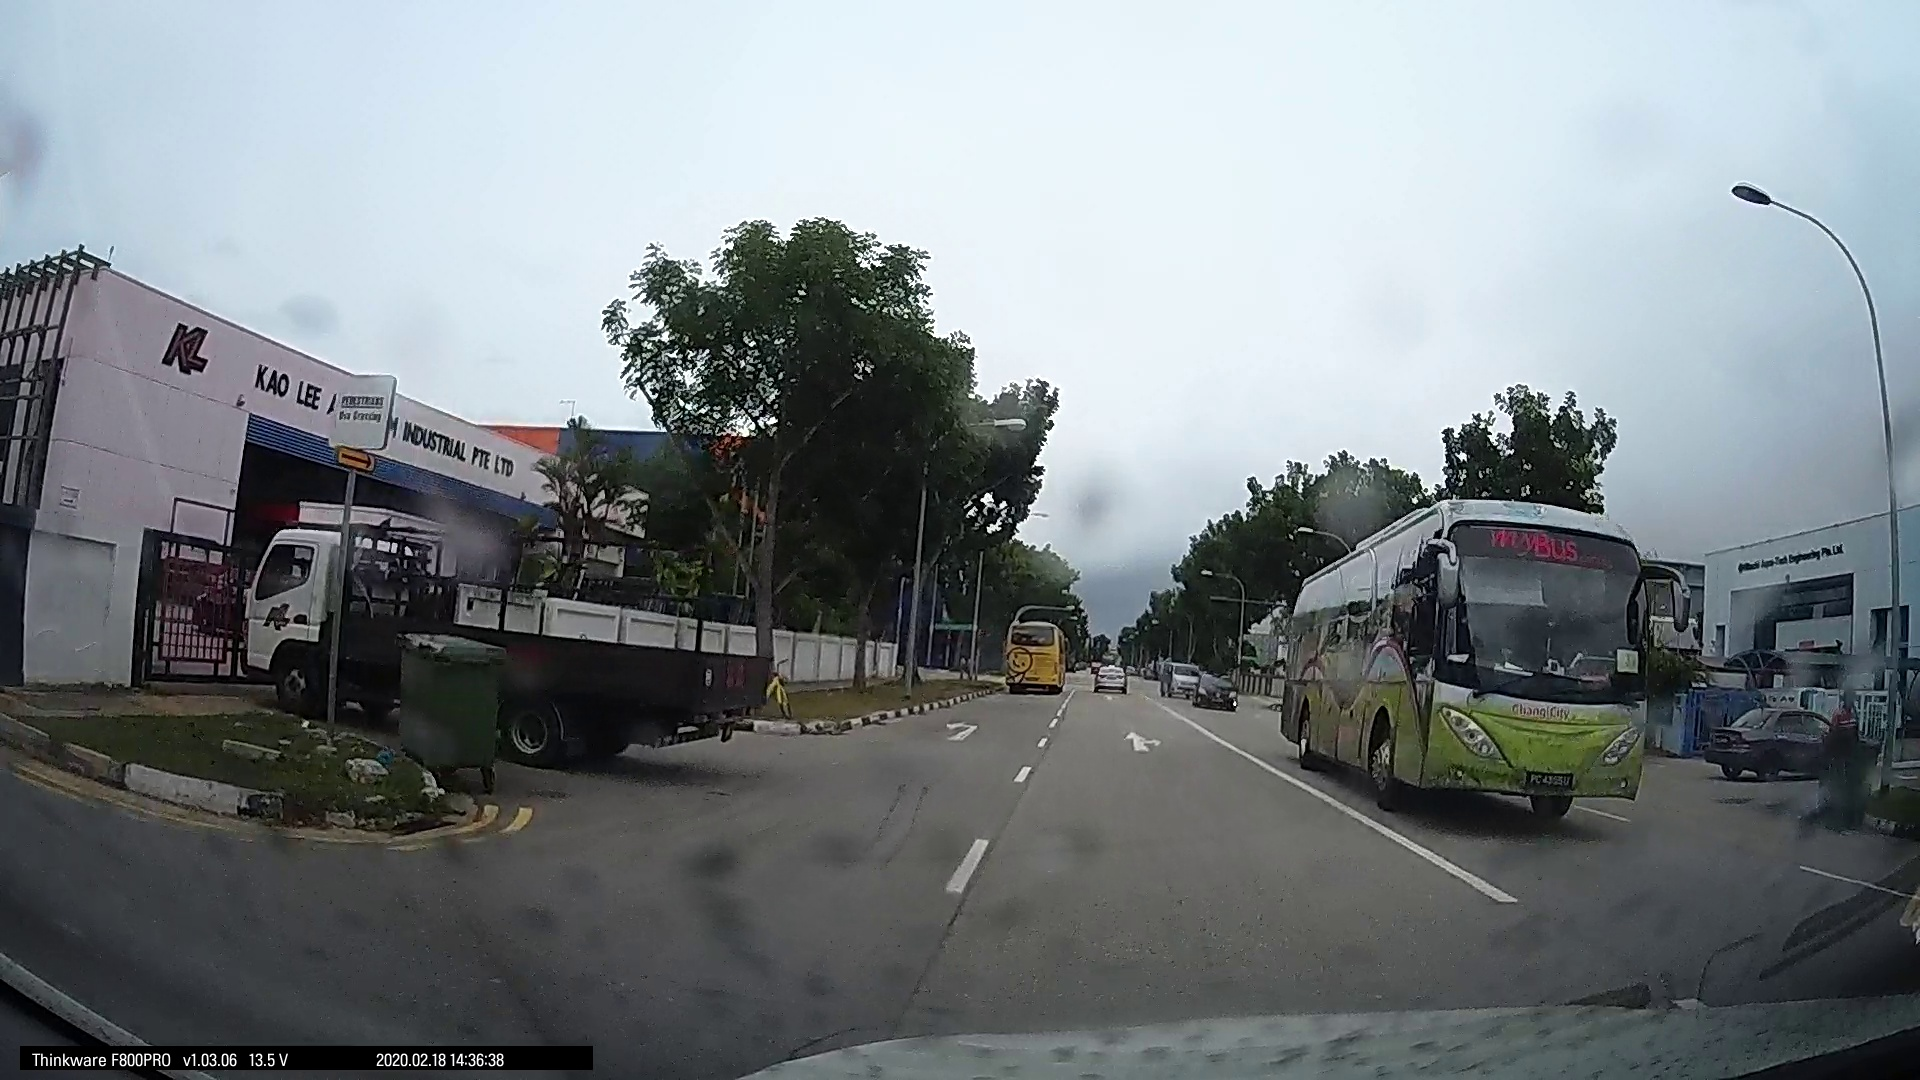Light Vehicle: (1667, 688, 1917, 914), (990, 641, 1133, 775), (1432, 651, 1596, 723), (1222, 647, 1346, 712), (527, 611, 634, 669), (789, 640, 877, 683)
Motorcycle: (887, 645, 928, 729)
